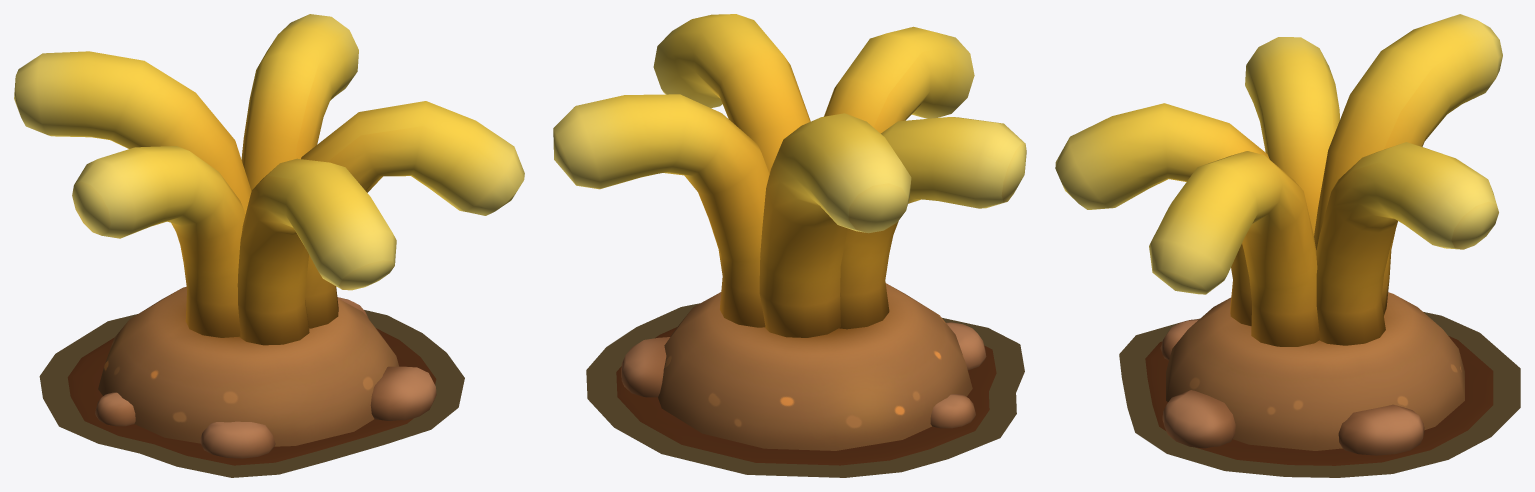
File: Wheat_L03.fbx
The picture shows the model from 3 angles, left to right: view 1: azimuth 30°, elevation 25°; view 2: azimuth 150°, elevation 25°; view 3: azimuth 270°, elevation 25°; orthographic projection. The views are drawn at different scales.
Parts seen in each view (by area): view 1: Wheat03_body, Wheat03_base, Wheat03SDW; view 2: Wheat03_body, Wheat03_base, Wheat03SDW; view 3: Wheat03_body, Wheat03_base, Wheat03SDW.
Part boxes in pixels (x1,y1,x2,y2): Wheat03_body: [14, 14, 524, 345]; Wheat03_base: [67, 286, 436, 465]; Wheat03SDW: [39, 310, 464, 477]; Wheat03_body: [553, 14, 1026, 337]; Wheat03_base: [616, 283, 996, 465]; Wheat03SDW: [586, 303, 1024, 477]; Wheat03_body: [1055, 14, 1502, 346]; Wheat03_base: [1145, 292, 1493, 465]; Wheat03SDW: [1119, 312, 1520, 477].
Bounding box in the file's own units: 118 × 89.31 × 121.
2 materials, 1 textured.
